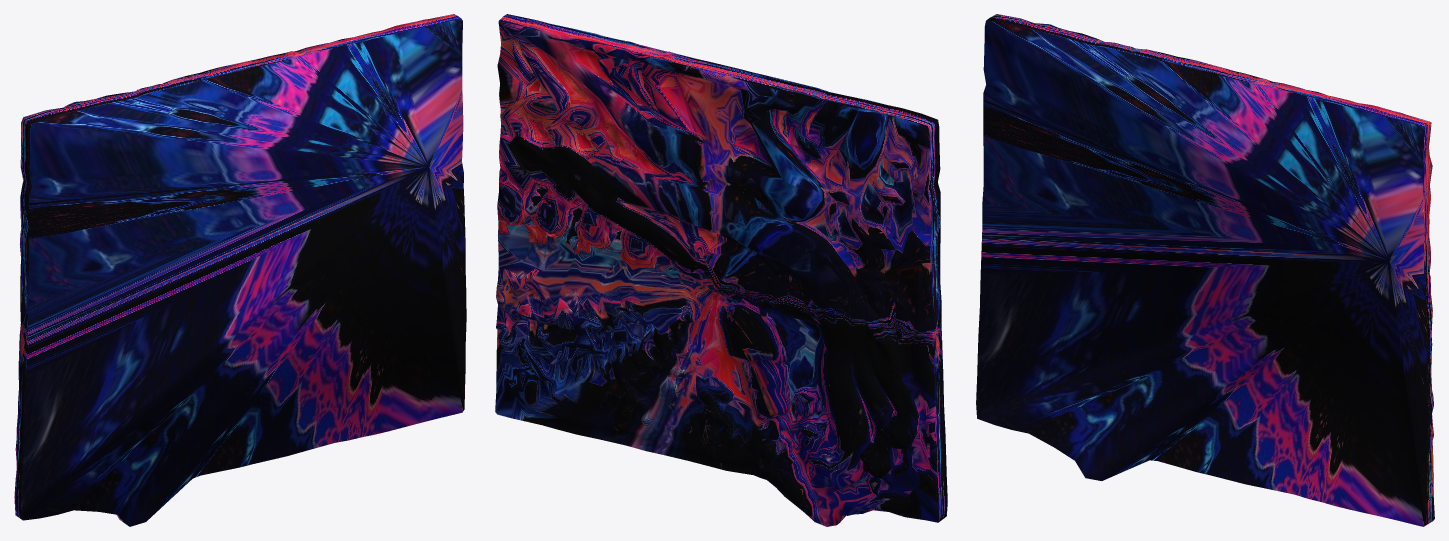
The model's file is tds_molding-of-a-section-of-the-bas-relief-of-angkor-wat-depic.glb.
3 views of the same model, side by side, from view 1: azimuth 30°, elevation 25°; view 2: azimuth 150°, elevation 25°; view 3: azimuth 330°, elevation 25° (orthographic).
Parts seen in each view (by area): view 1: A; view 2: A; view 3: A.
Part boxes in pixels (bbox=[...]): A: bbox=[14, 14, 466, 526]; A: bbox=[495, 14, 947, 526]; A: bbox=[976, 14, 1434, 526].
Bounding box in the file's own units: 2 × 1.85 × 0.09.
Materials: 1 (1 with a texture image).
